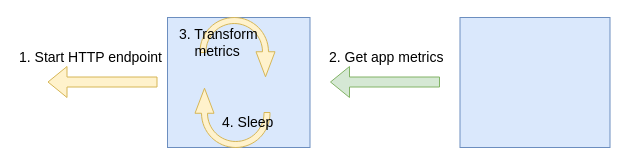
This 627x165 diagram has some shape labels left out. The shapes that lost their labels are listed below. From the top down, each one's box as (x1, y1, x2, y2) in pixels, then its label:
(166, 16, 310, 148): Exporter
(459, 16, 610, 148): Application
